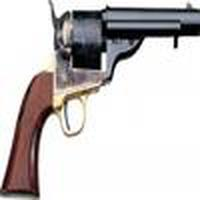gun: (4, 5, 200, 192)
